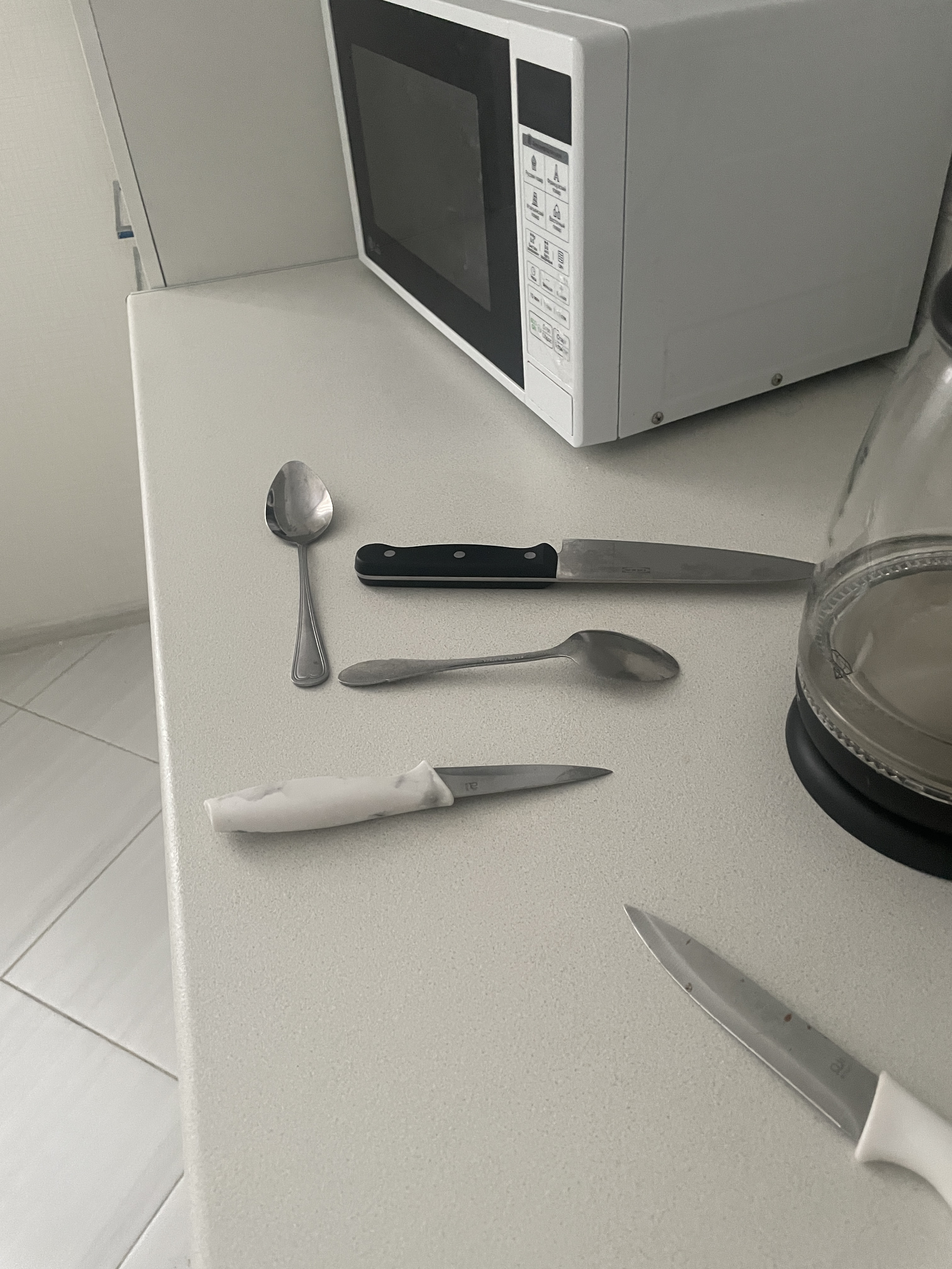knife: (625, 906, 952, 1206), (204, 761, 611, 832), (355, 539, 814, 588)
spoon: (338, 630, 679, 686), (265, 460, 333, 687)
